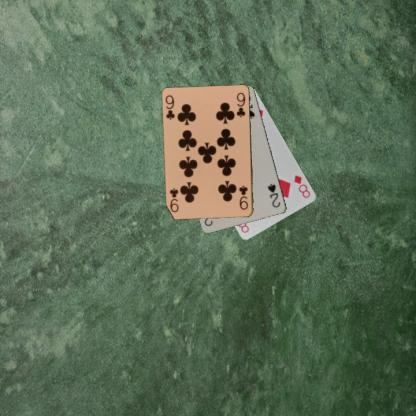2s: (266, 182, 282, 209)
8d: (292, 172, 312, 200)
9c: (236, 183, 249, 212), (163, 92, 176, 121)
